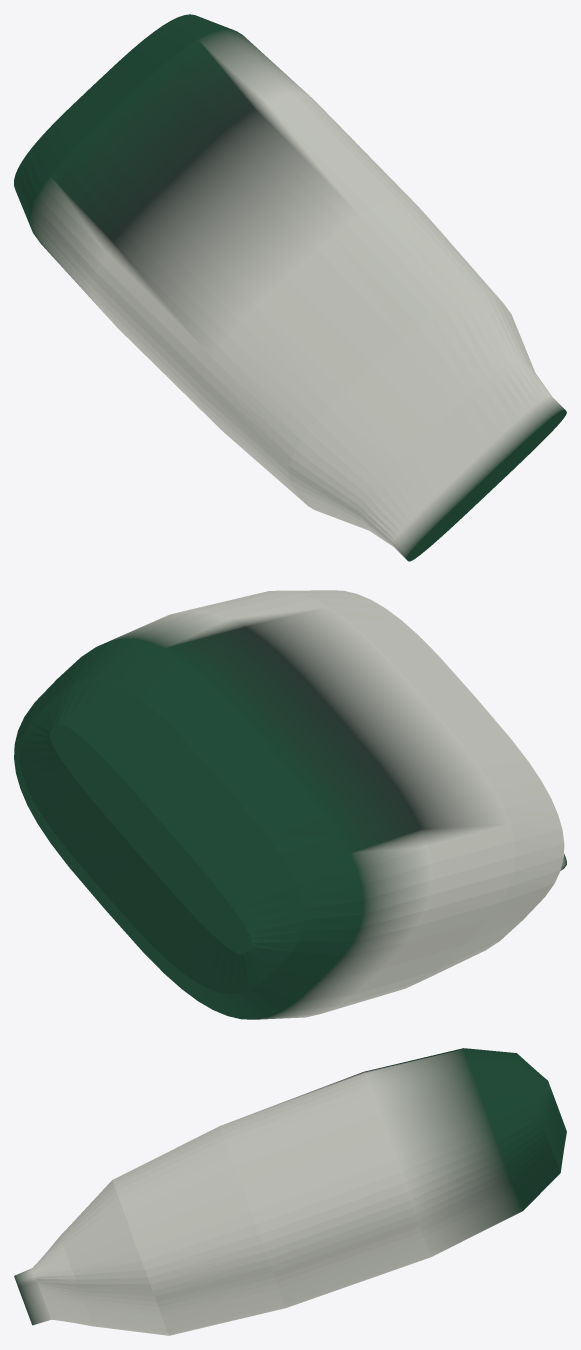
The model's file is component_034_pet_food_bag_floor.glb.
3 views of the same model, one above another, from view 1: azimuth 30°, elevation 25°; view 2: azimuth 150°, elevation 25°; view 3: azimuth 270°, elevation 25° (orthographic). The views are drawn at different scales.
Visible parts, largest first — view 1: 034_pet_food_bag_floor_000_instance_000_photo_-01; view 2: 034_pet_food_bag_floor_000_instance_000_photo_-01; view 3: 034_pet_food_bag_floor_000_instance_000_photo_-01.
Boxes of the visible parts, x1,y1,x2,y2 form: 034_pet_food_bag_floor_000_instance_000_photo_-01: (14, 14, 566, 561); 034_pet_food_bag_floor_000_instance_000_photo_-01: (14, 590, 566, 1019); 034_pet_food_bag_floor_000_instance_000_photo_-01: (14, 1048, 566, 1335).
Bounding box in the file's own units: 0.1077 × 0.1207 × 0.2037.
